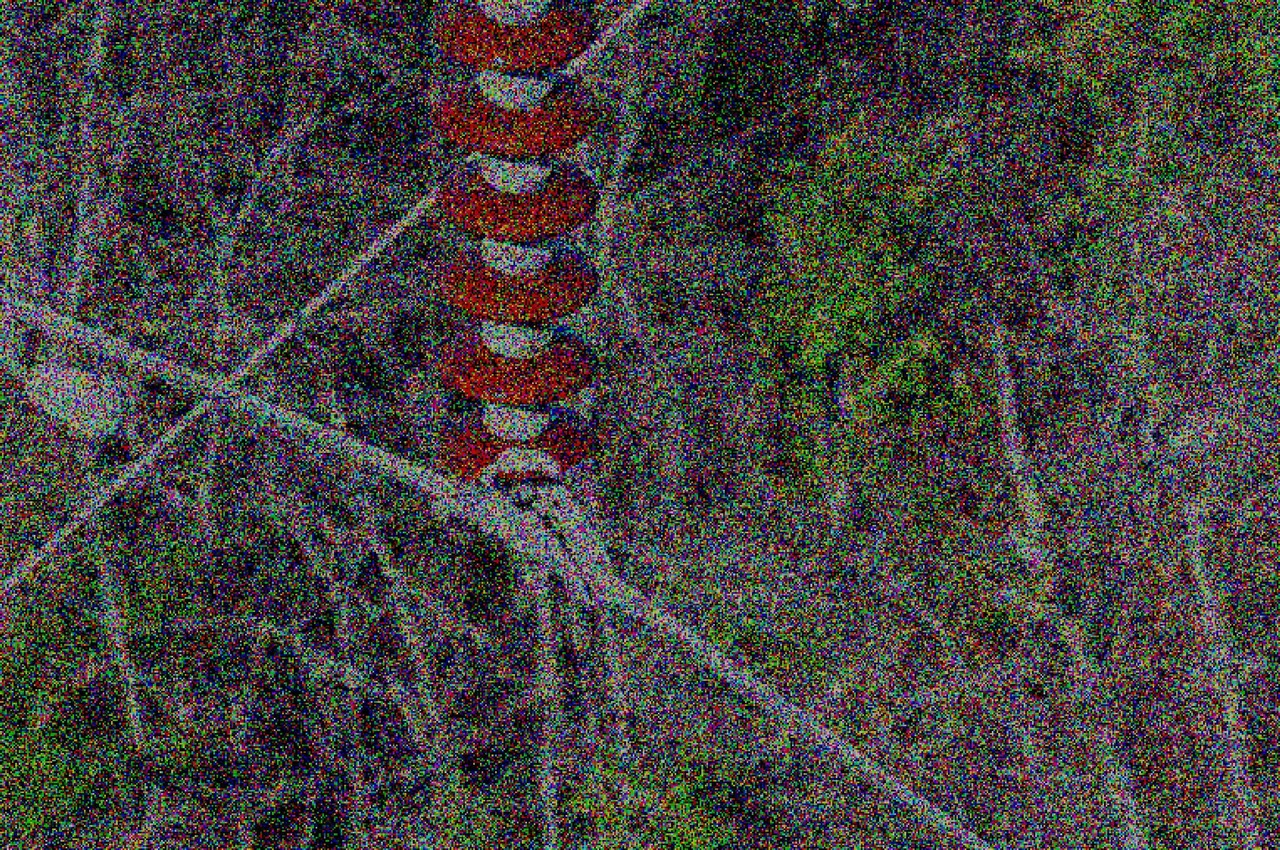Broken: (436, 400, 603, 492)
No issues: (431, 154, 599, 244), (429, 68, 596, 157), (431, 242, 598, 327), (435, 322, 601, 406), (431, 0, 598, 70)
String: (422, 0, 613, 510)
